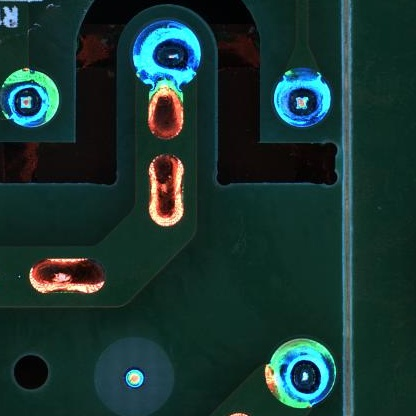spot: (263, 336, 338, 408), (133, 19, 200, 85), (272, 68, 332, 127), (1, 69, 59, 128)
